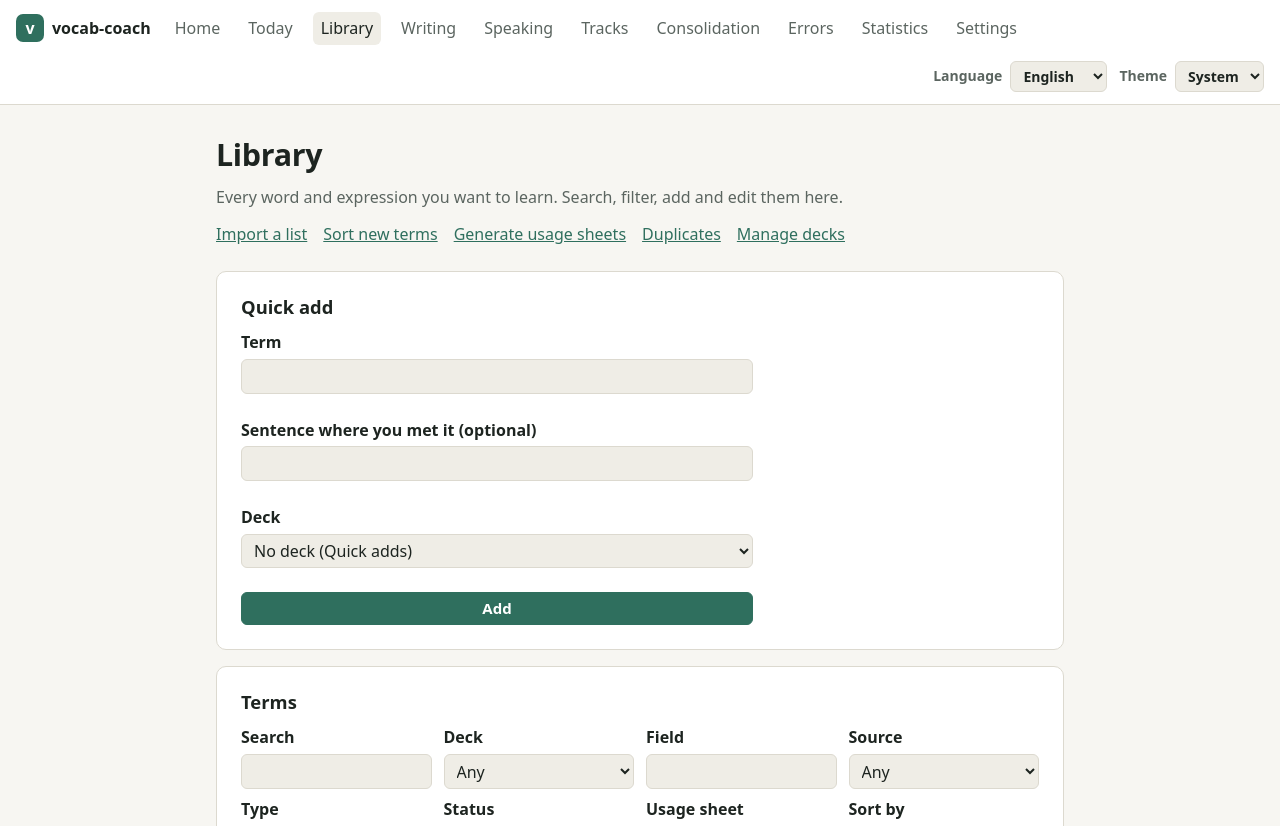
Test: library page › quick add: sends the term and confirms
Type "selection bias" into the field labelled "Term" at (497, 376), box [241, 359, 753, 394]
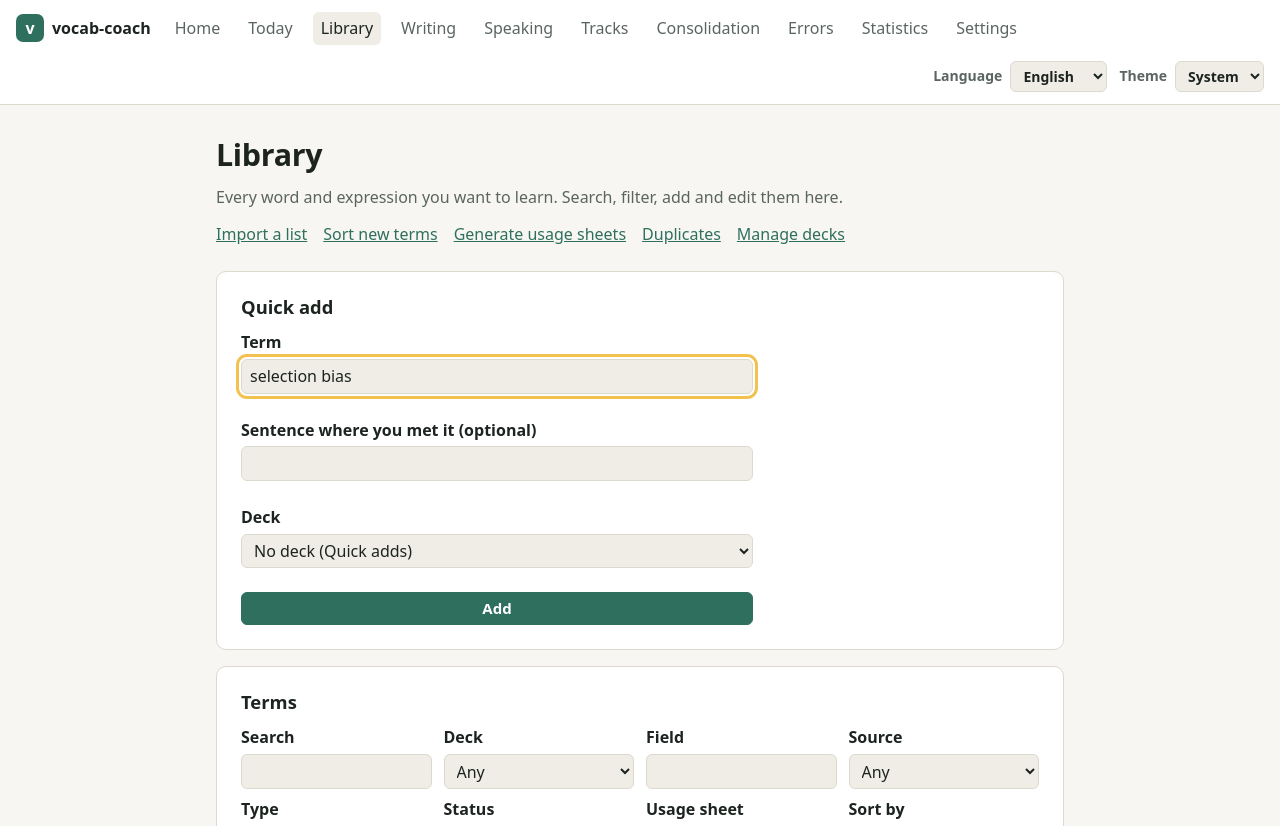
Click the button "Add" at (497, 609), box [241, 592, 753, 625]
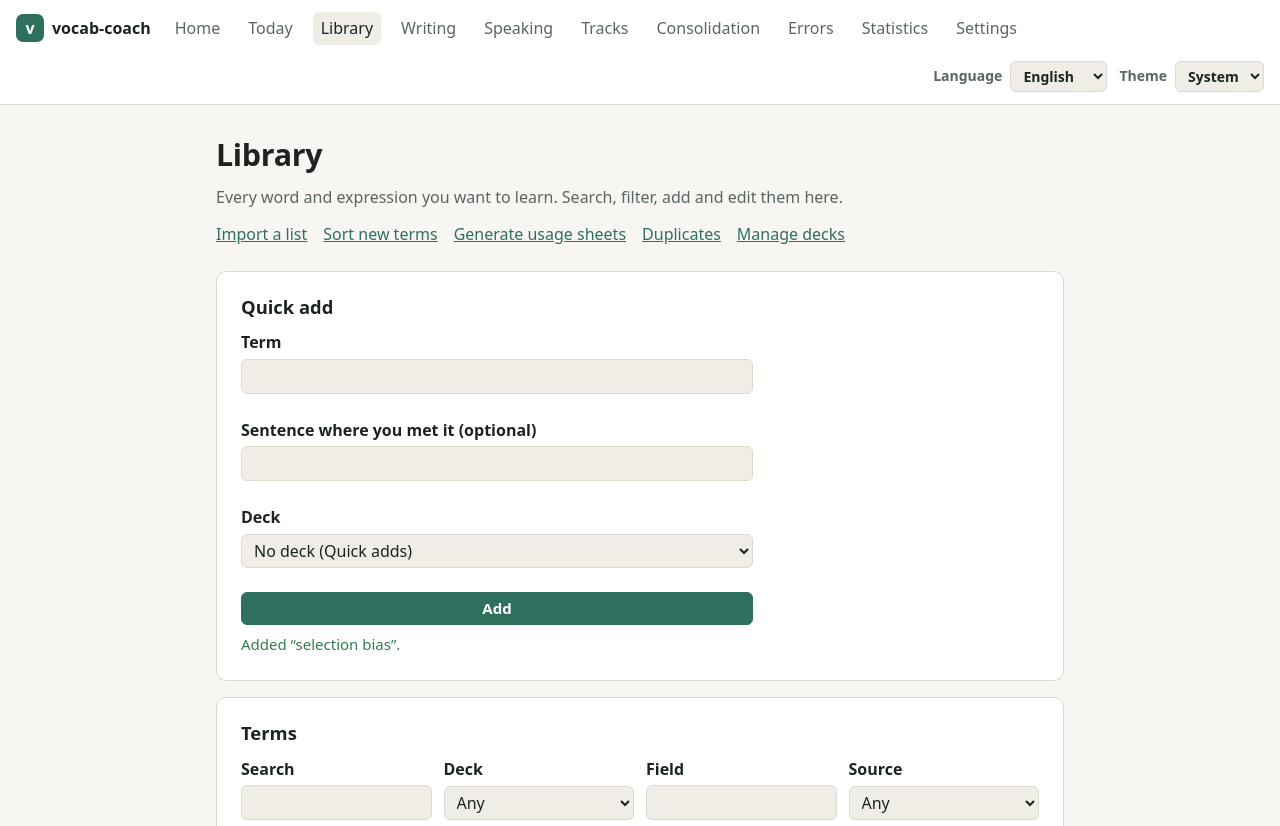
Result: the text "Added “selection bias”." is shown at [241, 634, 400, 654]
